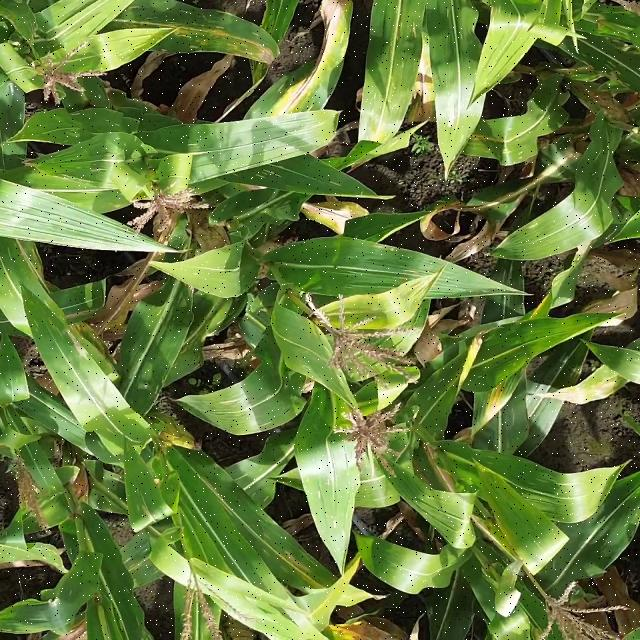gray-leaf-spot: (169, 0, 279, 55), (306, 469, 353, 542), (161, 230, 199, 314), (30, 320, 93, 367), (255, 529, 314, 578), (363, 61, 412, 119), (470, 125, 532, 165), (235, 156, 302, 193), (575, 44, 640, 81), (80, 136, 138, 174), (431, 89, 469, 143), (486, 3, 530, 48), (229, 466, 277, 506), (60, 108, 134, 132), (5, 246, 37, 300), (115, 551, 162, 587), (549, 343, 592, 377), (177, 334, 212, 374), (125, 482, 162, 518)
northern-leaf-blight: (284, 20, 344, 114), (488, 167, 570, 213)
